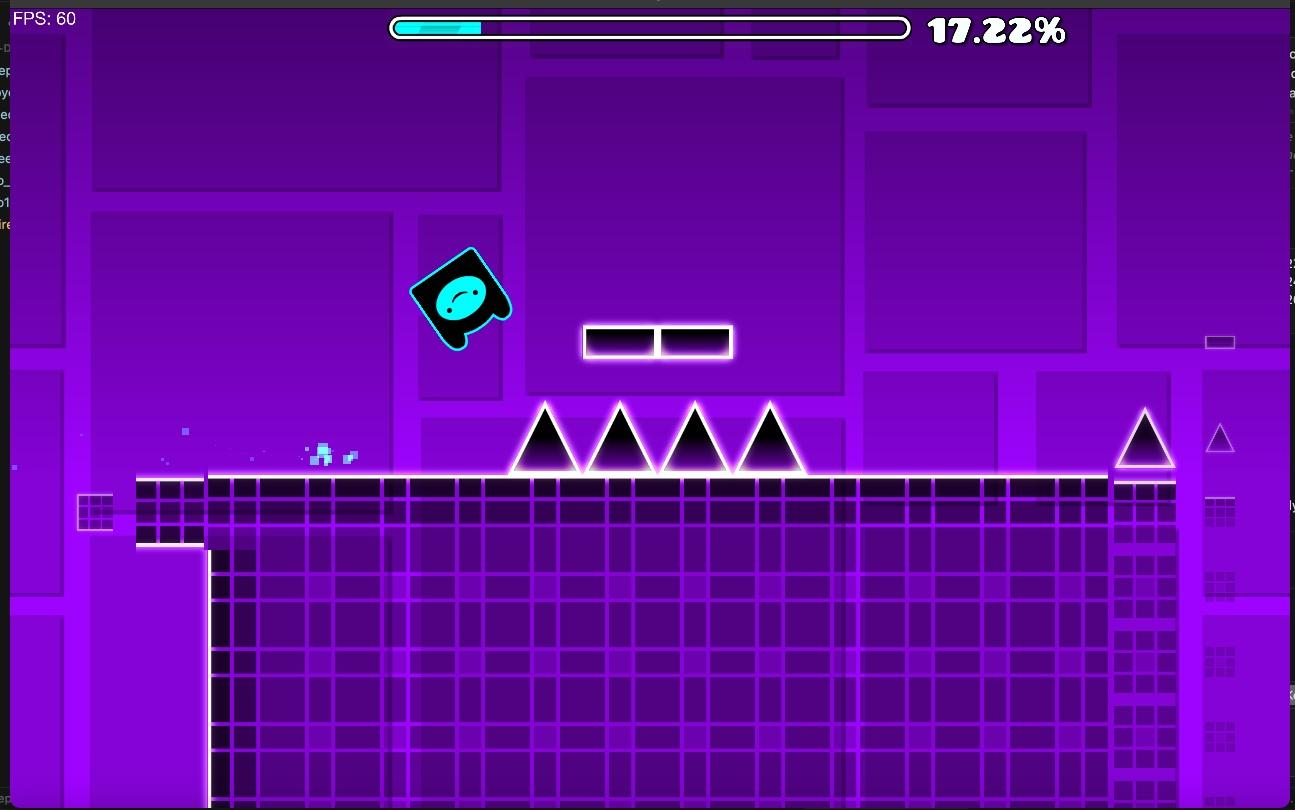block: (213, 546, 1181, 810), (137, 480, 1180, 545)
platform: (582, 325, 733, 359)
player: (412, 248, 510, 350)
spike: (584, 403, 804, 474), (511, 405, 575, 473), (1117, 409, 1173, 467)
